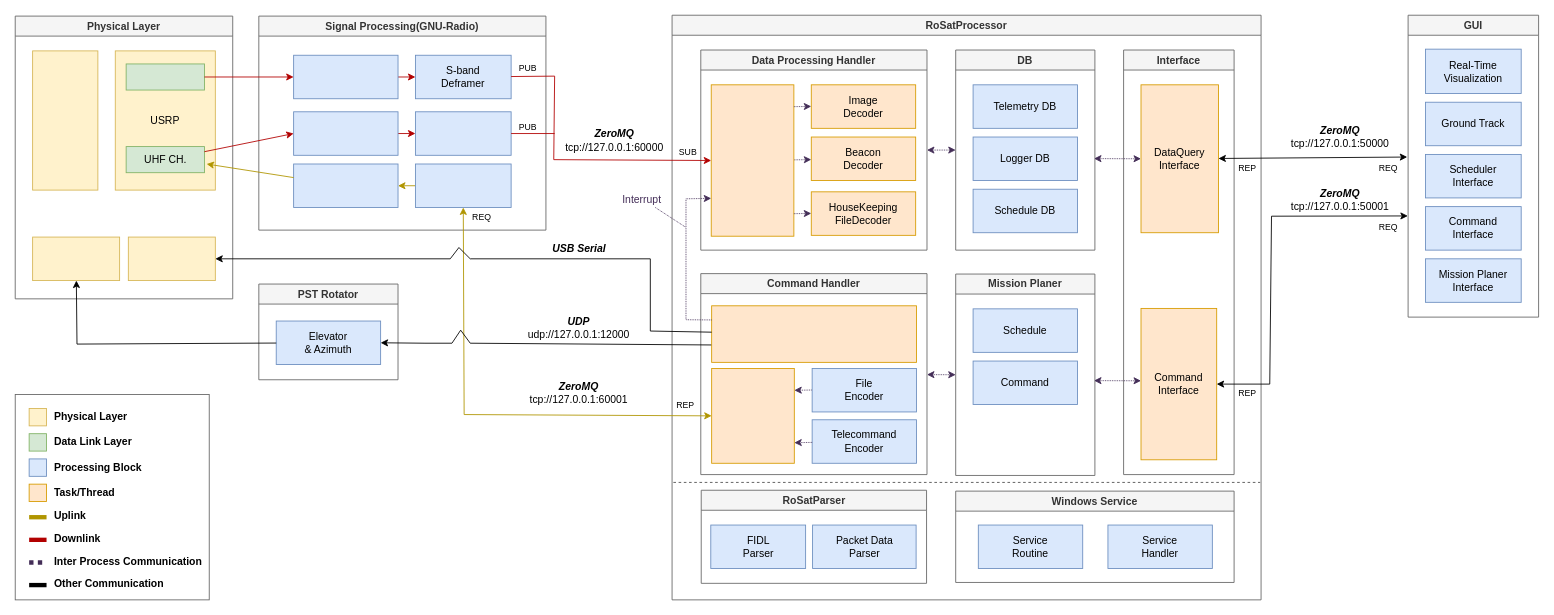
The diagram is 1554 pixels wide and 615 high, and some of its shapes have lost their labels. The centre of each missing label's shape, as x and y in pixels:
Antenna: pixel 65 120
CommandRotor Controller: pixel 814 333
PacketReceive Queue: pixel 752 160
PacketTransmit Queue: pixel 752 415
Rotor Controller: pixel 76 258
S-Band CH.: pixel 164 76
S-band Demodulator: pixel 345 76
UHF Deframer: pixel 463 133
UHF Demodulator: pixel 345 133
UHF Framer: pixel 463 185
UHF Modulator: pixel 345 185
UHF Up/Dwn Switcher: pixel 171 258
